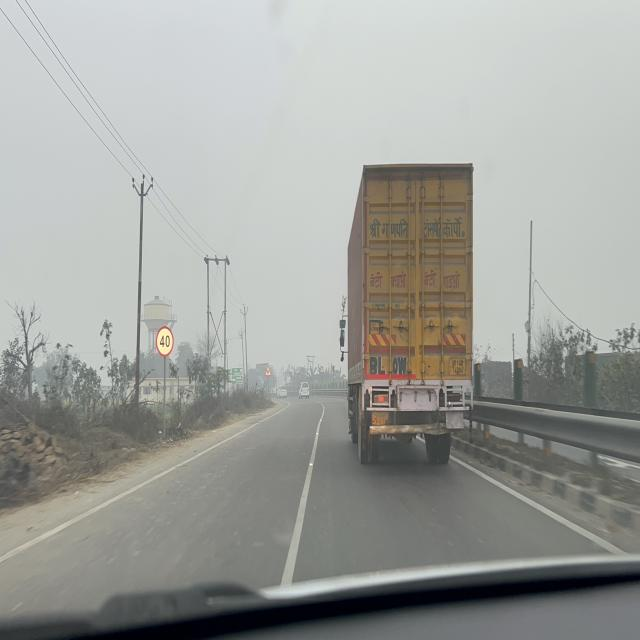GENERAL: (231, 368, 243, 386)
SCHOOL_AHEAD: (264, 365, 272, 377)
SPEED_LIMIT_40: (155, 326, 174, 358)
